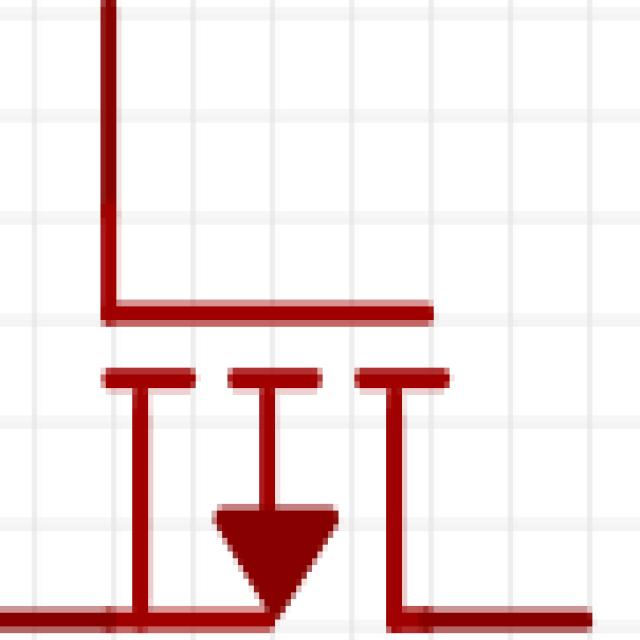pmos: (6, 18, 633, 640)
